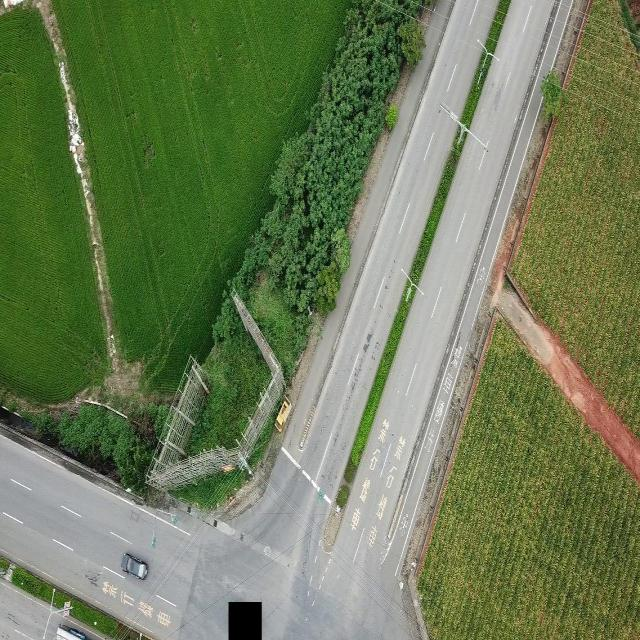car: (120, 551, 148, 580)
